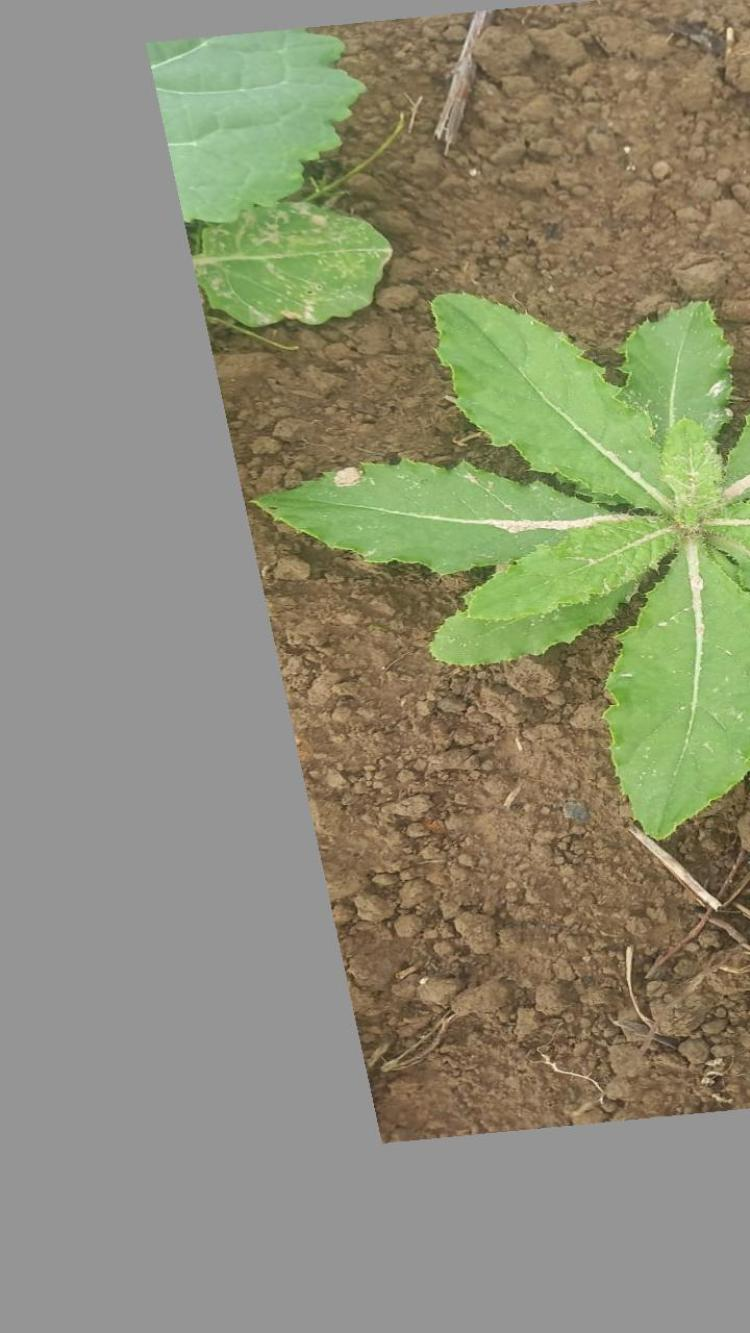osot: (252, 292, 750, 844)
